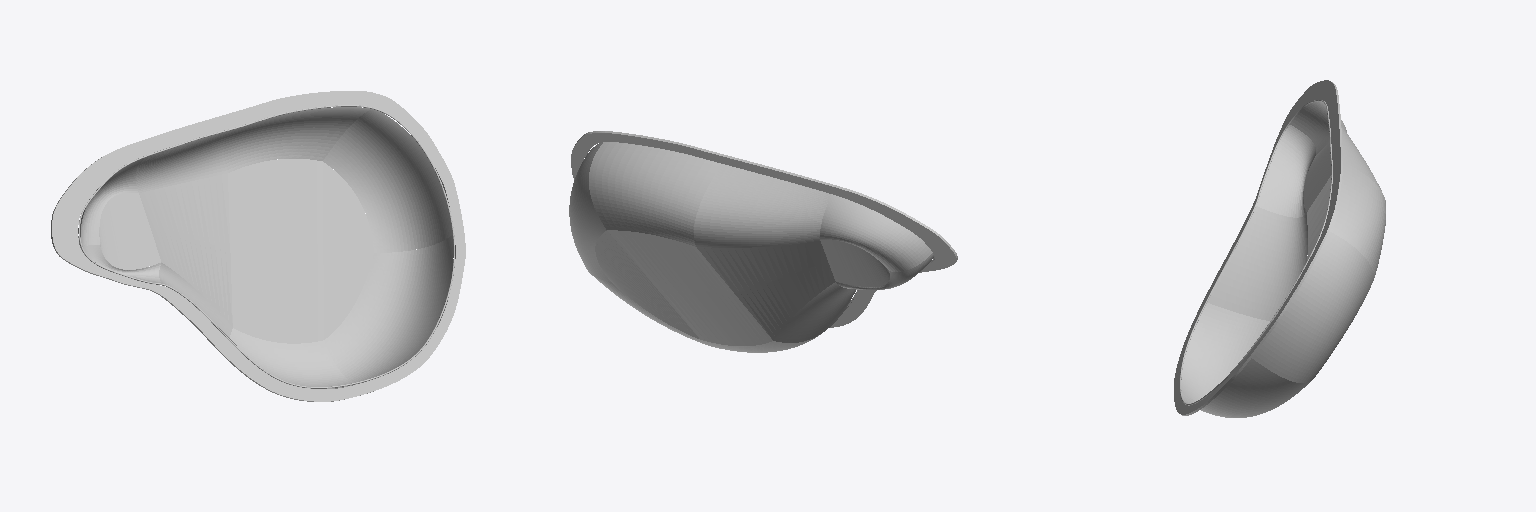
File: pista.obj
3 views of the same model, side by side, from view 1: azimuth 30°, elevation 25°; view 2: azimuth 150°, elevation 25°; view 3: azimuth 270°, elevation 25° (orthographic).
Parts seen in each view (by area): view 1: Obj_000011, Obj_000015, Obj_000002, Obj_000001, Obj_000010, Obj_000012, Obj_000003, Obj_000008, Obj_000009, Obj_000004, Obj_000005, Obj_000014 (+2 smaller); view 2: Obj_000003, Obj_000004, Obj_000011, Obj_000010, Obj_000015, Obj_000005, Obj_000012, Obj_000002, Obj_000007, Obj_000009, Obj_000006, Obj_000008 (+1 smaller); view 3: Obj_000002, Obj_000007, Obj_000008, Obj_000015, Obj_000003, Obj_000006, Obj_000001, Obj_000005, Obj_000014, Obj_000009, Obj_000010, Obj_000004.
Part boxes in pixels (left/top/right/bottom): Obj_000011: left=228, top=159, right=323, bottom=343; Obj_000015: left=51, top=91, right=465, bottom=401; Obj_000002: left=323, top=109, right=452, bottom=252; Obj_000001: left=324, top=235, right=453, bottom=382; Obj_000010: left=139, top=173, right=232, bottom=326; Obj_000012: left=323, top=162, right=373, bottom=339; Obj_000003: left=224, top=107, right=371, bottom=172; Obj_000008: left=230, top=328, right=366, bottom=388; Obj_000009: left=99, top=193, right=160, bottom=269; Obj_000004: left=136, top=131, right=229, bottom=192; Obj_000005: left=78, top=159, right=140, bottom=245; Obj_000014: left=78, top=105, right=454, bottom=388; Obj_000003: left=589, top=142, right=721, bottom=246; Obj_000004: left=694, top=164, right=830, bottom=247; Obj_000011: left=607, top=230, right=772, bottom=345; Obj_000010: left=697, top=241, right=835, bottom=340; Obj_000015: left=571, top=131, right=957, bottom=327; Obj_000005: left=820, top=194, right=932, bottom=271; Obj_000012: left=595, top=231, right=698, bottom=338; Obj_000002: left=569, top=143, right=610, bottom=281; Obj_000007: left=774, top=282, right=855, bottom=342; Obj_000009: left=820, top=240, right=889, bottom=286; Obj_000006: left=836, top=253, right=933, bottom=289; Obj_000008: left=701, top=334, right=820, bottom=352; Obj_000002: left=1252, top=232, right=1373, bottom=382; Obj_000007: left=1207, top=206, right=1307, bottom=320; Obj_000008: left=1181, top=303, right=1269, bottom=400; Obj_000015: left=1174, top=80, right=1342, bottom=415; Obj_000003: left=1330, top=162, right=1385, bottom=277; Obj_000006: left=1256, top=125, right=1315, bottom=217; Obj_000001: left=1182, top=358, right=1310, bottom=417; Obj_000005: left=1290, top=101, right=1346, bottom=154; Obj_000014: left=1180, top=100, right=1332, bottom=405; Obj_000009: left=1304, top=143, right=1331, bottom=211; Obj_000010: left=1307, top=175, right=1331, bottom=260; Obj_000004: left=1341, top=125, right=1381, bottom=190.
Size of the model in its own units: 1.42 by 0.8425 by 0.6673.